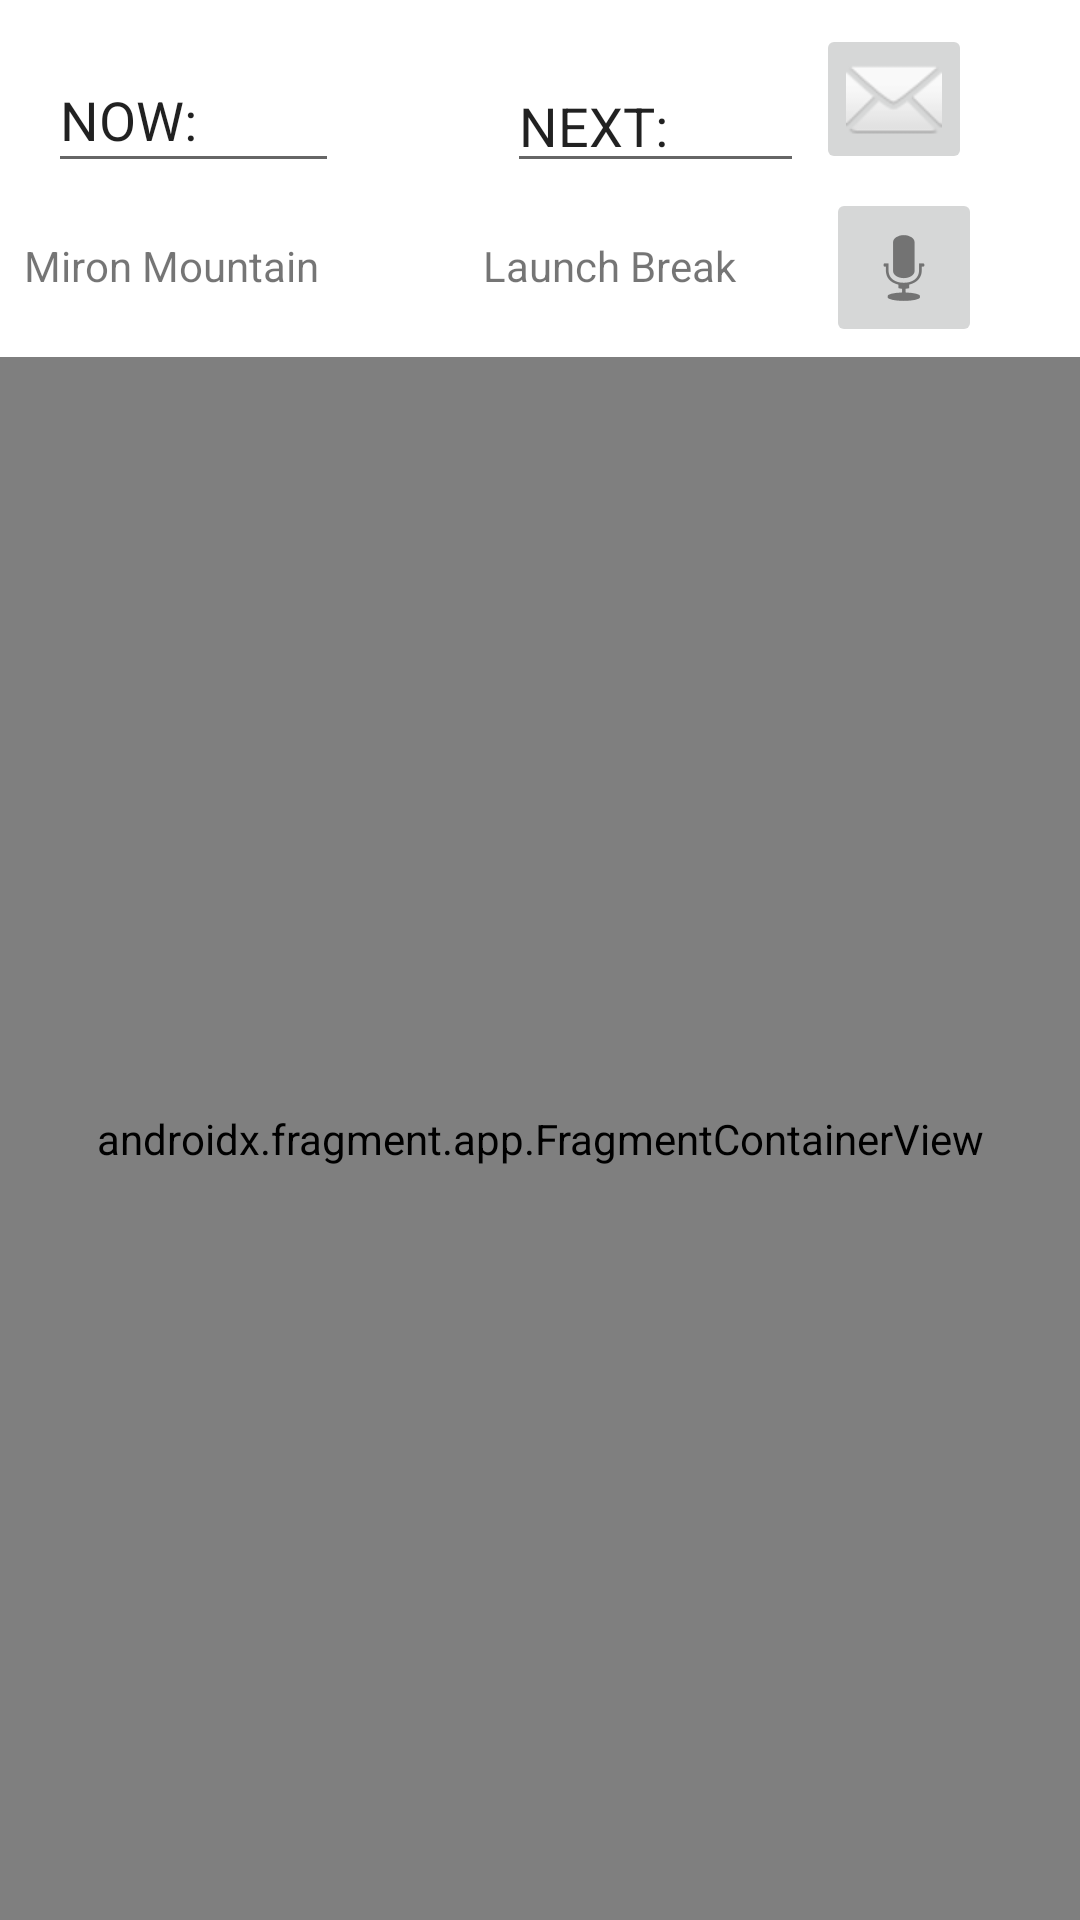

Named icons in this screenshot (1080px×1920px) and their centers, (x,y):
email: (894,99)
speak now: (904,267)
